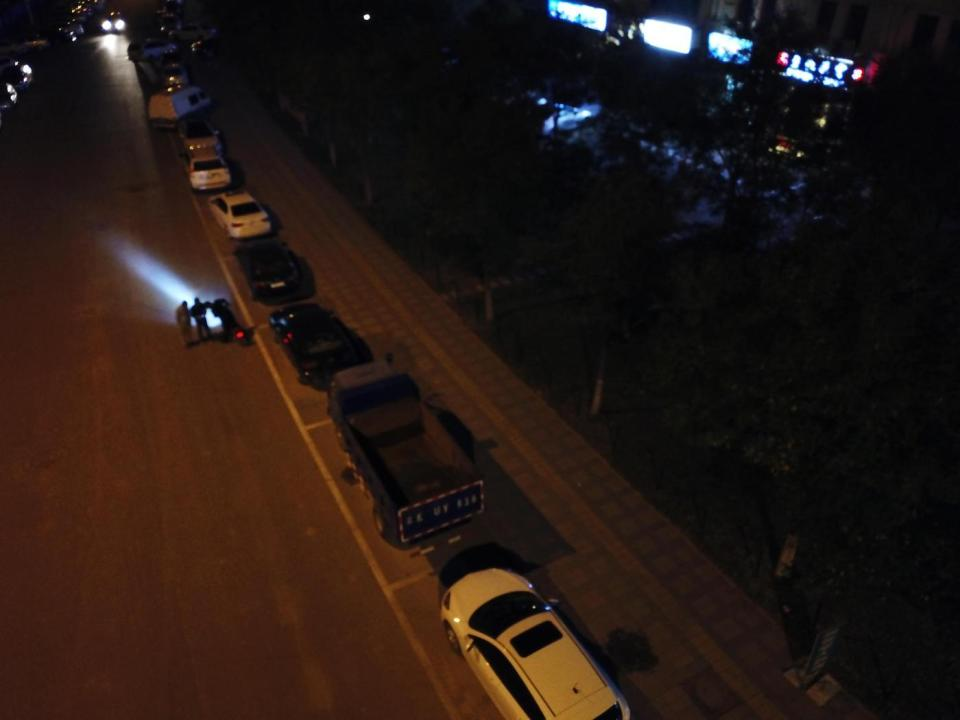car: (438, 565, 638, 720), (269, 303, 364, 380), (232, 240, 301, 298), (204, 187, 276, 238), (178, 147, 233, 190), (526, 104, 594, 138), (174, 116, 224, 152), (190, 36, 258, 59), (123, 35, 178, 62), (1, 54, 36, 95), (168, 21, 219, 41), (5, 32, 56, 52), (34, 24, 80, 45), (160, 61, 192, 89), (45, 20, 87, 38), (100, 9, 128, 34), (56, 9, 88, 28), (154, 50, 182, 68), (156, 14, 182, 33), (155, 4, 180, 23), (65, 4, 93, 19)
truck: (326, 358, 487, 544)
van: (148, 80, 213, 127)
